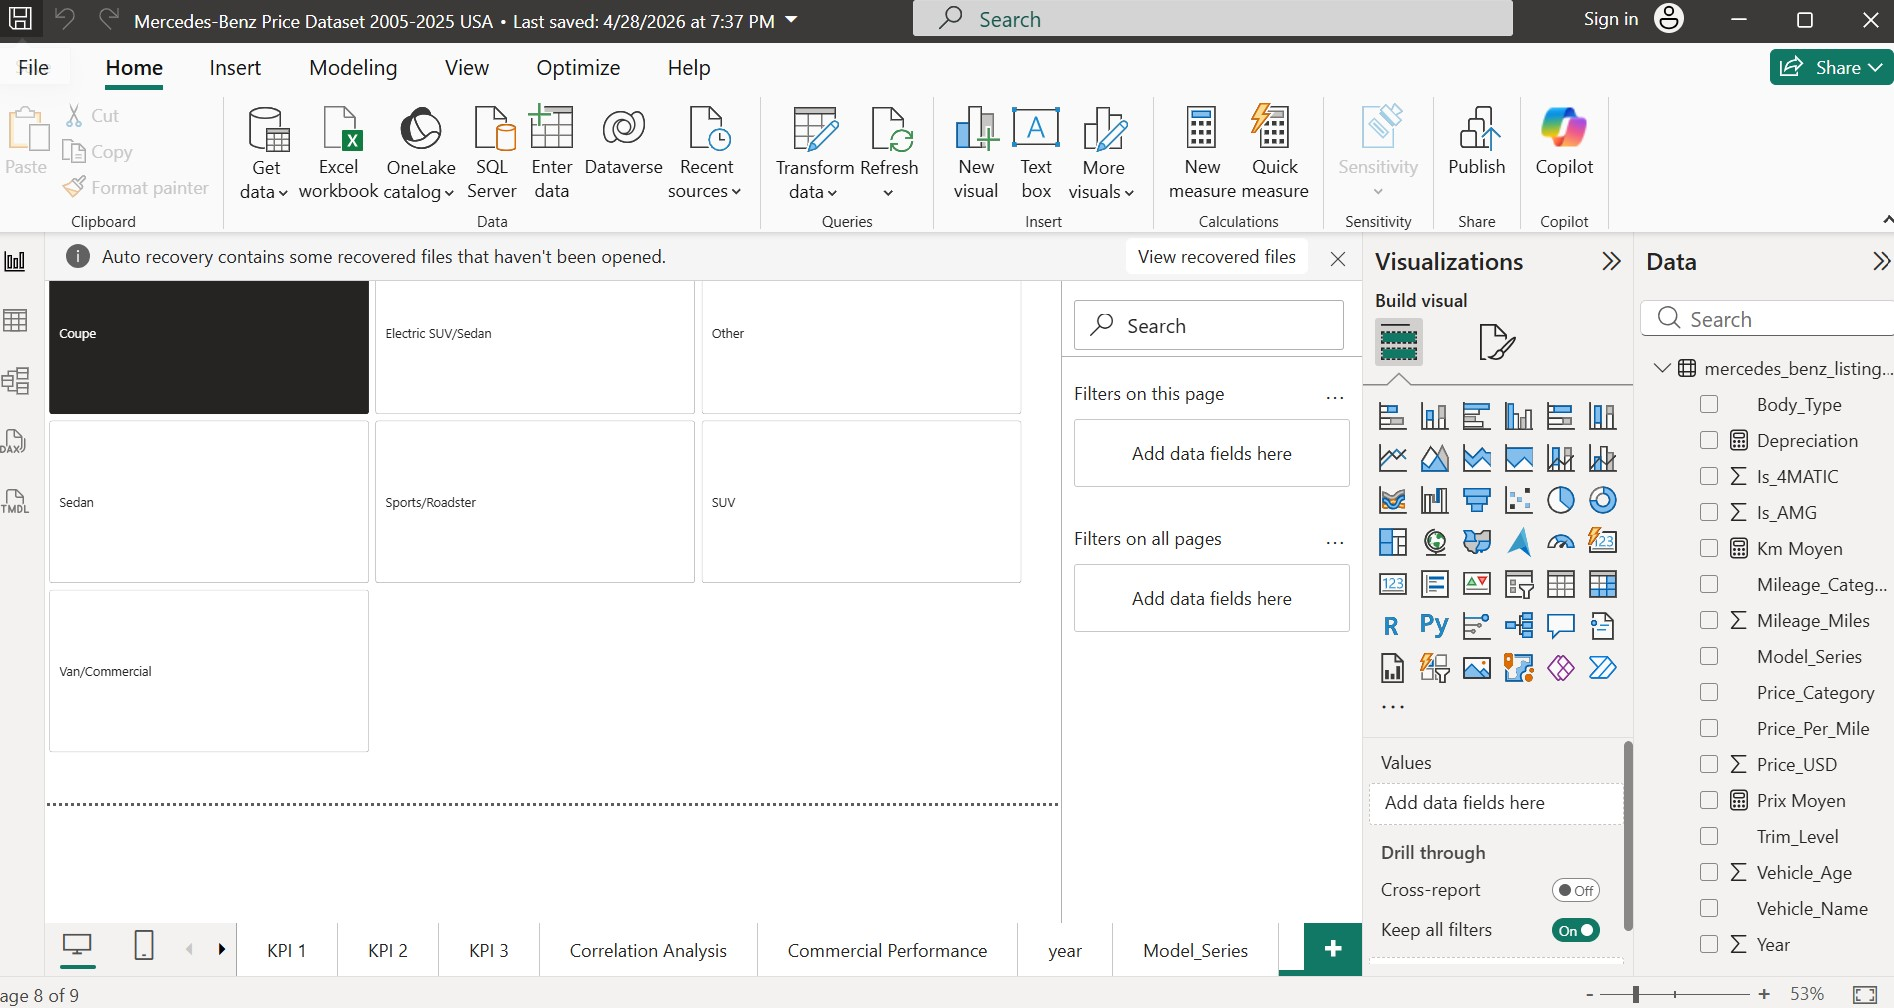

The page's visual inventory and layout, read from the dashboard file:
{"tool":"powerbi","page":{"name":"Body type","canvas":[1280,720],"ordinal":7},"visuals":[{"type":"advancedSlicerVisual","fields":{"Values":["mercedes_benz_listings_cleaned.Body_Type"]},"box":[0,0,1235.9,661.4],"z":0}]}

Visuals, with their boxes on the page's 1280x720 design canvas (x1, y1, x2, y2). These are canvas units, not pixel positions in the 1894x1008 screenshot, which may show the page scaled, cropped or inside an application window:
advancedSlicerVisual - mercedes_benz_listings_cleaned.Body_Type: left=0, top=0, right=1236, bottom=661
